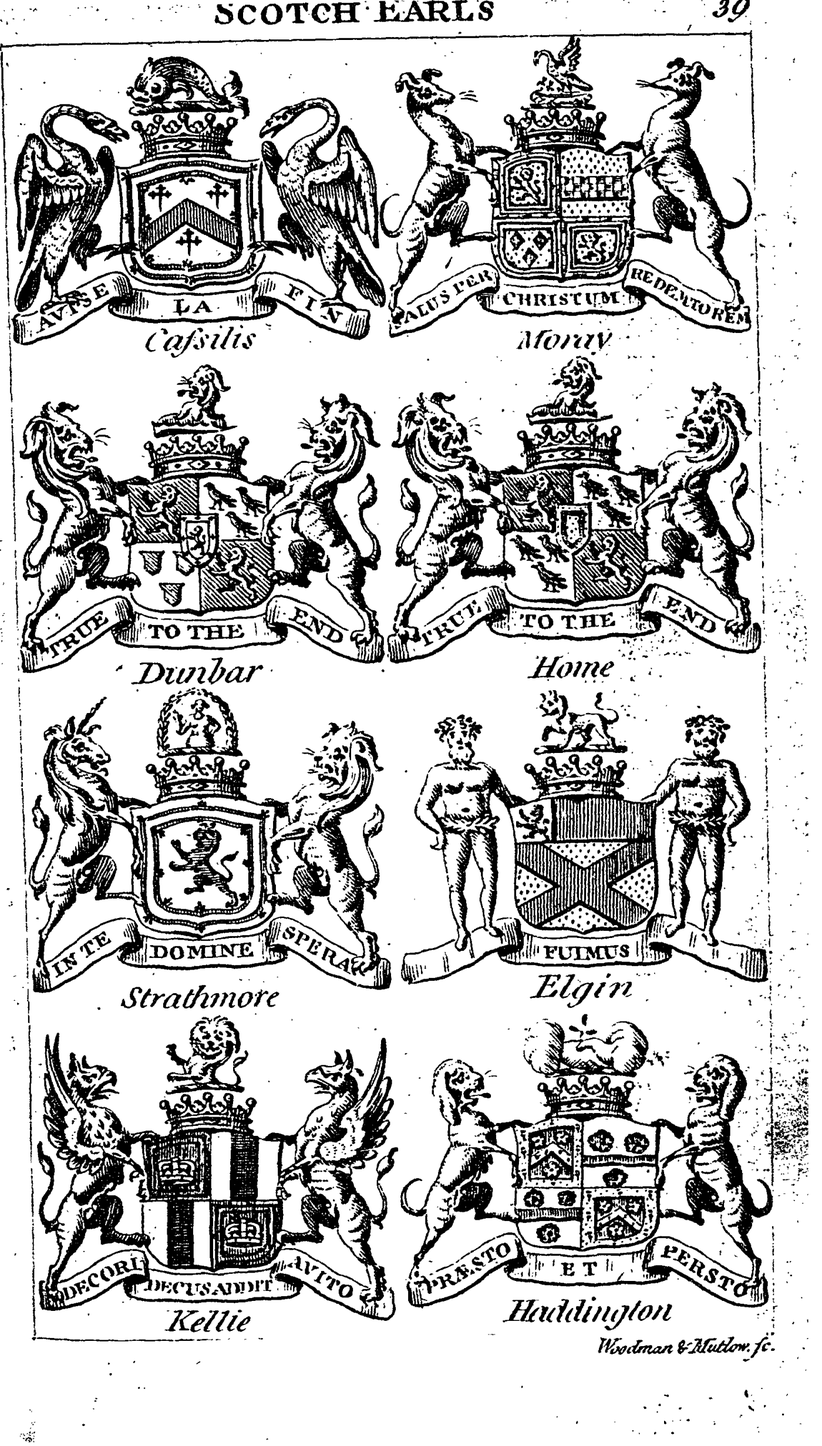coat_of_arms: (22, 691, 390, 1019), (390, 359, 767, 679), (399, 678, 766, 1000), (32, 1021, 399, 1341), (18, 370, 385, 688), (398, 1011, 767, 1327), (15, 54, 379, 366), (395, 51, 753, 356)
